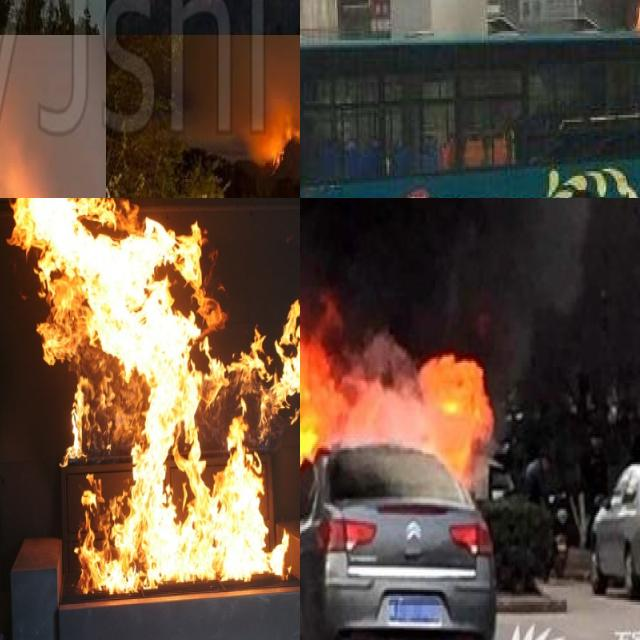fire: (16, 198, 300, 583), (300, 271, 492, 640), (263, 118, 300, 164)
smoke: (300, 198, 601, 281), (0, 44, 87, 190)
